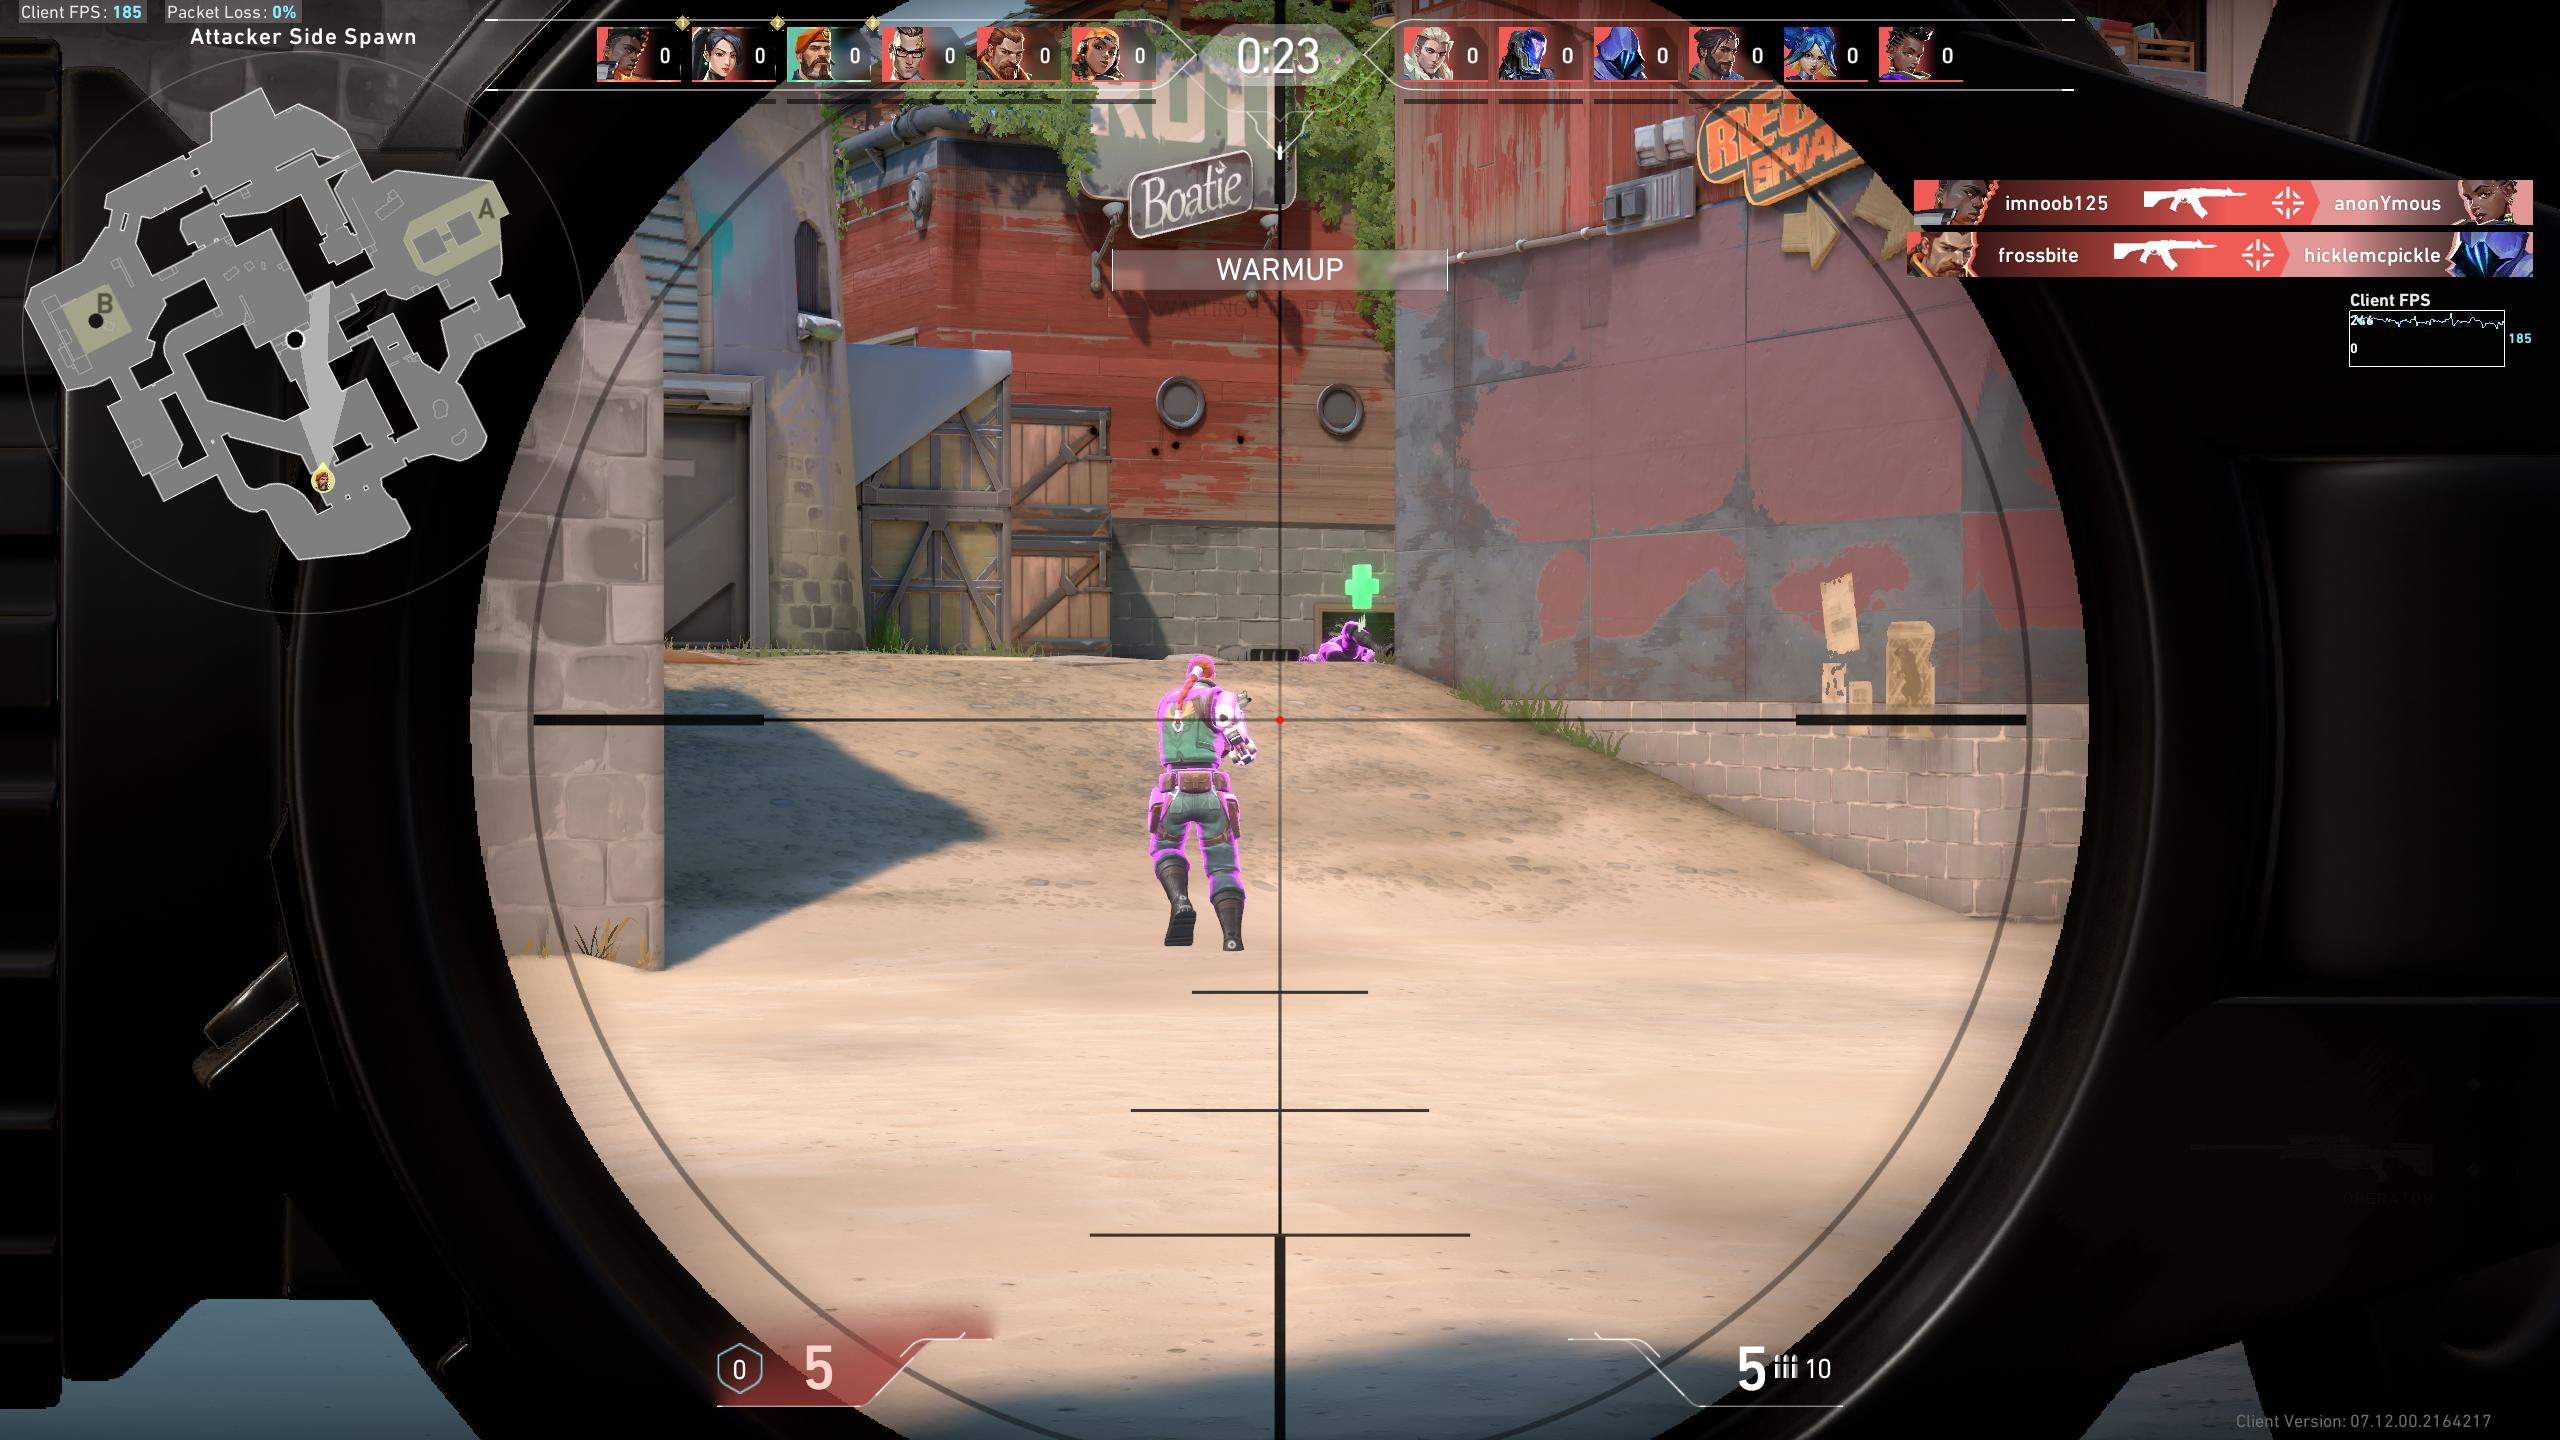enemyBody: (1157, 696, 1248, 823)
enemyHead: (1187, 659, 1218, 693)
